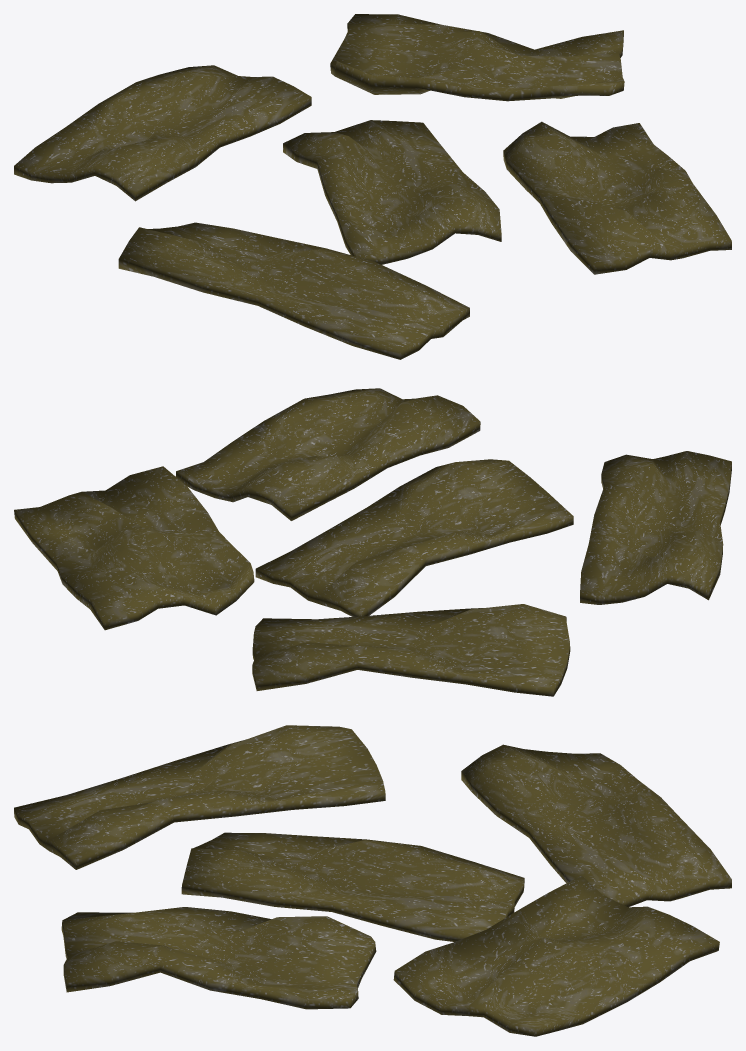
Rendered from yakiniku_00_p.glb.
3 views of the same model, one above another, from view 1: azimuth 30°, elevation 25°; view 2: azimuth 150°, elevation 25°; view 3: azimuth 270°, elevation 25° (orthographic). The views are drawn at different scales.
Parts seen in each view (by area): view 1: yakiniku; view 2: yakiniku; view 3: yakiniku.
Part boxes in pixels (left/top/right/bottom): yakiniku: left=14, top=14, right=731, bottom=359; yakiniku: left=14, top=388, right=731, bottom=696; yakiniku: left=14, top=725, right=731, bottom=1036.
Bounding box in the file's own units: 0.1823 × 0.0146 × 0.1811.
1 material, 1 textured.
